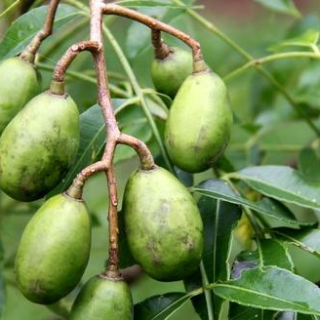coc: (124, 165, 203, 282), (14, 193, 89, 305), (164, 64, 231, 174)
